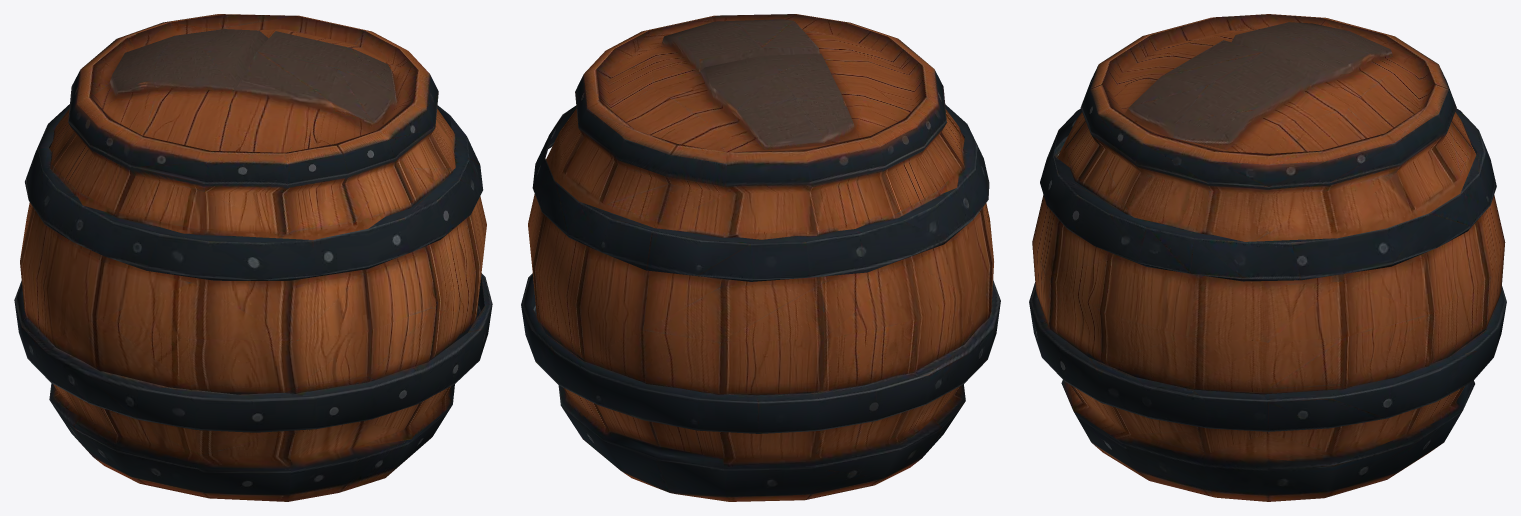
The model's file is barrel.glb.
The picture shows the model from 3 angles, left to right: view 1: azimuth 30°, elevation 25°; view 2: azimuth 150°, elevation 25°; view 3: azimuth 270°, elevation 25°; orthographic projection.
Bounding box in the file's own units: 0.9497 × 0.833 × 0.9517.
Materials: 1 (1 with a texture image).
